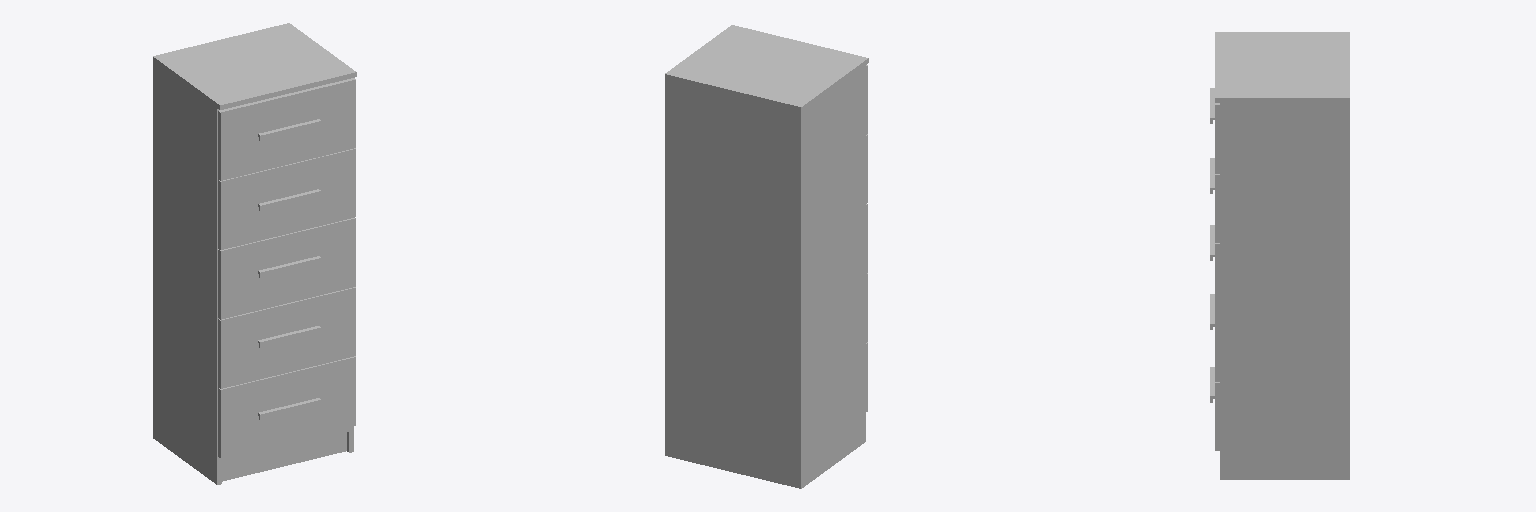
File: KABDRUPx5.obj
3 views of the same model, side by side, from view 1: azimuth 30°, elevation 25°; view 2: azimuth 150°, elevation 25°; view 3: azimuth 270°, elevation 25° (orthographic).
Visible parts, largest first — view 1: Cube.008_Cube.009, Cube.003_Cube.004, Cube.009_Cube.015; view 2: Cube.003_Cube.004, Cube.008_Cube.009; view 3: Cube.003_Cube.004, Cube.008_Cube.009, Cube.009_Cube.015.
Boxes of the visible parts, box(x1,y1,x2,y2) form: Cube.008_Cube.009: box(218, 78, 355, 457); Cube.003_Cube.004: box(153, 23, 356, 484); Cube.009_Cube.015: box(258, 119, 320, 420); Cube.003_Cube.004: box(665, 25, 868, 488); Cube.008_Cube.009: box(866, 65, 867, 411); Cube.003_Cube.004: box(1215, 32, 1349, 479); Cube.008_Cube.009: box(1215, 103, 1219, 450); Cube.009_Cube.015: box(1210, 88, 1214, 402).
Bounding box in the file's own units: 0.8198 × 2.19 × 0.7263.